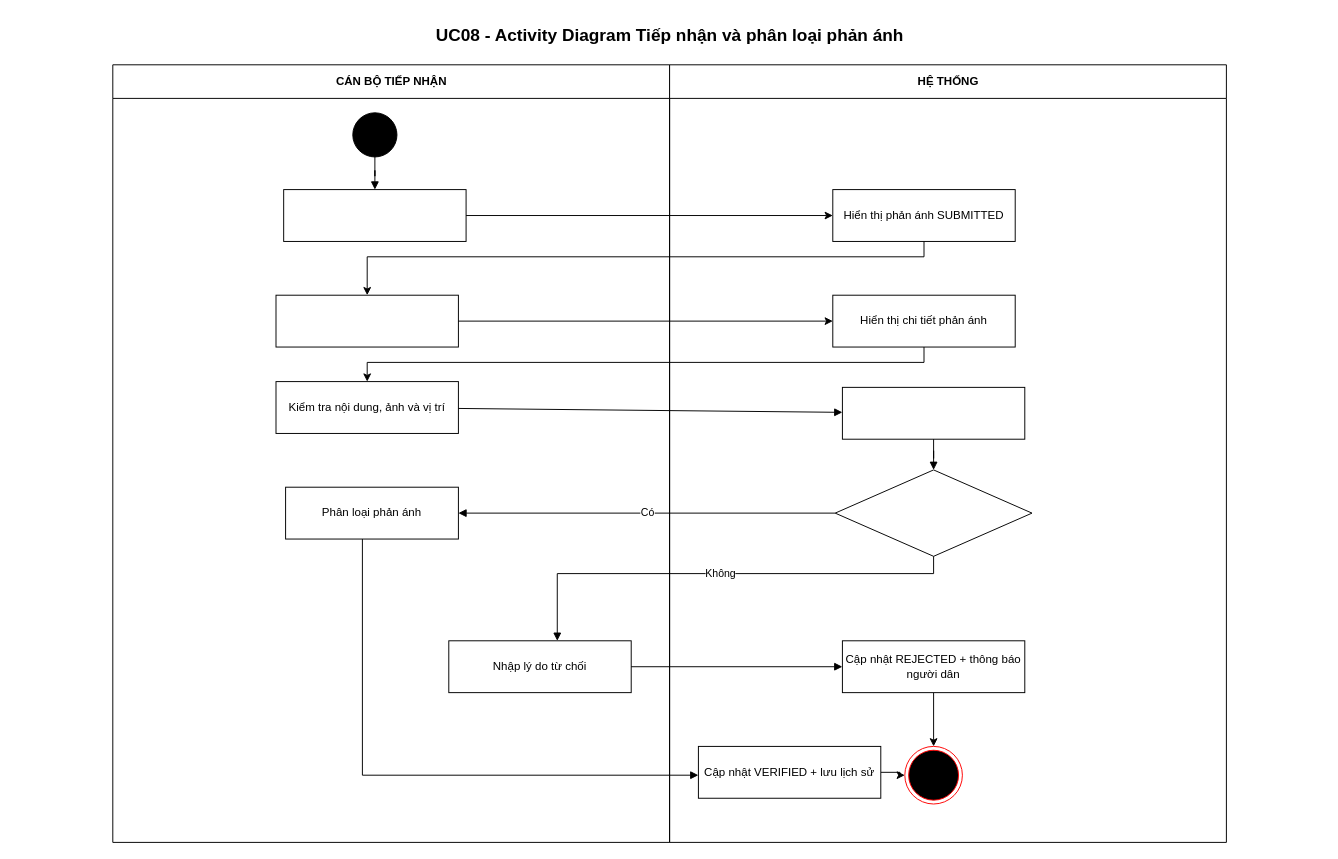
Image size: 1338x859. Some labels were removed from this diagram. The shapes that lost their labels are listed below. From the top down, each one's centre as x and y in pixels, then its label:
At point (374, 215): "Mở danh sách phản ánh mới".
At point (366, 320): "Chọn một phản ánh".
At point (933, 412): "Kiểm tra dữ liệu + UC04".
At point (933, 512): "Hợp lệ?".
